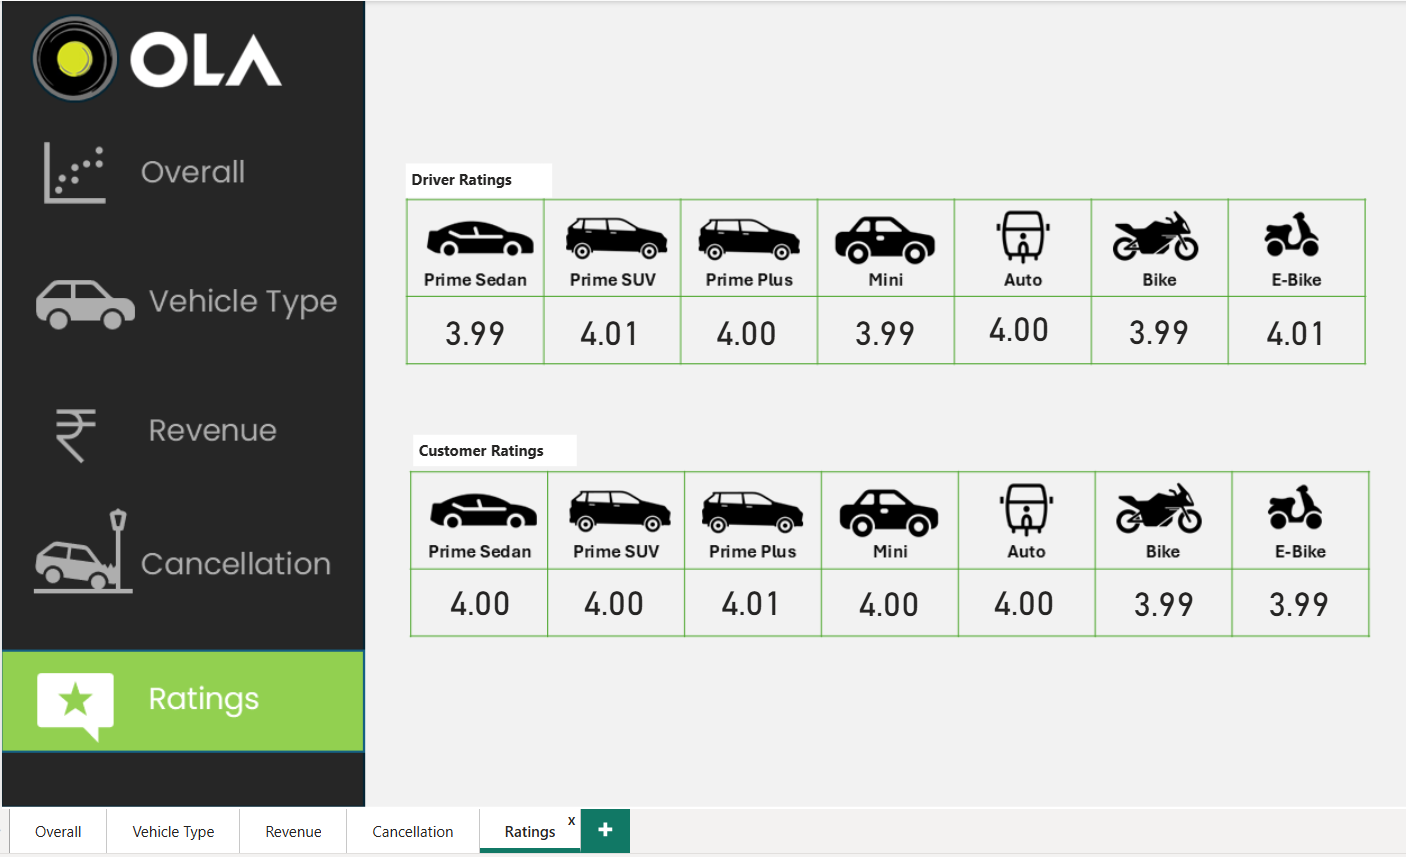

Layout of this report page (visuals, bound fields, positions):
{"tool":"powerbi","page":{"name":"Ratings","canvas":[1280,720],"ordinal":4},"visuals":[{"type":"actionButton","box":[0,106.2,324.5,91.7],"z":0},{"type":"actionButton","box":[1.2,230.4,323.3,89.3],"z":1000},{"type":"actionButton","box":[0,346.2,323.3,89.3],"z":2000},{"type":"actionButton","box":[1.2,469.3,323.3,106.2],"z":3000},{"type":"card","fields":{"Values":["Avg(Bookings.Driver_Ratings)"]},"box":[361.3,266,119.4,55.9],"z":4000},{"type":"card","fields":{"Values":["Avg(Bookings.Driver_Ratings)"]},"box":[482.2,266,119.4,55.9],"z":5000},{"type":"card","fields":{"Values":["Avg(Bookings.Driver_Ratings)"]},"box":[603.1,266,119.4,55.9],"z":6000},{"type":"card","fields":{"Values":["Avg(Bookings.Driver_Ratings)"]},"box":[727.1,266,119.4,55.9],"z":7000},{"type":"card","fields":{"Values":["Avg(Bookings.Driver_Ratings)"]},"box":[846.5,263,119.4,55.9],"z":8000},{"type":"card","fields":{"Values":["Avg(Bookings.Driver_Ratings)"]},"box":[970.4,264.5,119.4,55.9],"z":9000},{"type":"card","fields":{"Values":["Avg(Bookings.Driver_Ratings)"]},"box":[1092.9,266,119.4,55.9],"z":10000},{"type":"card","fields":{"Values":["Avg(Bookings.Customer_Rating)"]},"box":[365.8,506.4,119.4,55.9],"z":11000},{"type":"card","fields":{"Values":["Avg(Bookings.Customer_Rating)"]},"box":[485.2,506.4,119.4,55.9],"z":12000},{"type":"card","fields":{"Values":["Avg(Bookings.Customer_Rating)"]},"box":[607.7,506.4,119.4,55.9],"z":13000},{"type":"card","fields":{"Values":["Avg(Bookings.Customer_Rating)"]},"box":[730.1,507.9,119.4,55.9],"z":14000},{"type":"card","fields":{"Values":["Avg(Bookings.Customer_Rating)"]},"box":[851,506.4,119.4,55.9],"z":15000},{"type":"card","fields":{"Values":["Avg(Bookings.Customer_Rating)"]},"box":[975,507.9,119.4,55.9],"z":16000},{"type":"card","fields":{"Values":["Avg(Bookings.Customer_Rating)"]},"box":[1095.9,507.9,119.4,55.9],"z":17000},{"type":"textbox","box":[366.8,386.1,146,27.7],"z":18000},{"type":"textbox","box":[359.5,144.8,130.3,30.2],"z":19000}]}

Visuals, with their boxes on the page's 1280x720 design canvas (x1, y1, x2, y2). These are canvas units, not pixel positions in the 1406x857 screenshot, which may show the page scaled, cropped or inside an application window:
actionButton: (x1=0, y1=106, x2=324, y2=198)
actionButton: (x1=1, y1=230, x2=324, y2=320)
actionButton: (x1=0, y1=346, x2=323, y2=436)
actionButton: (x1=1, y1=469, x2=324, y2=576)
card - Avg(Bookings.Driver_Ratings): (x1=361, y1=266, x2=481, y2=322)
card - Avg(Bookings.Driver_Ratings): (x1=482, y1=266, x2=602, y2=322)
card - Avg(Bookings.Driver_Ratings): (x1=603, y1=266, x2=722, y2=322)
card - Avg(Bookings.Driver_Ratings): (x1=727, y1=266, x2=846, y2=322)
card - Avg(Bookings.Driver_Ratings): (x1=846, y1=263, x2=966, y2=319)
card - Avg(Bookings.Driver_Ratings): (x1=970, y1=264, x2=1090, y2=320)
card - Avg(Bookings.Driver_Ratings): (x1=1093, y1=266, x2=1212, y2=322)
card - Avg(Bookings.Customer_Rating): (x1=366, y1=506, x2=485, y2=562)
card - Avg(Bookings.Customer_Rating): (x1=485, y1=506, x2=605, y2=562)
card - Avg(Bookings.Customer_Rating): (x1=608, y1=506, x2=727, y2=562)
card - Avg(Bookings.Customer_Rating): (x1=730, y1=508, x2=850, y2=564)
card - Avg(Bookings.Customer_Rating): (x1=851, y1=506, x2=970, y2=562)
card - Avg(Bookings.Customer_Rating): (x1=975, y1=508, x2=1094, y2=564)
card - Avg(Bookings.Customer_Rating): (x1=1096, y1=508, x2=1215, y2=564)
textbox: (x1=367, y1=386, x2=513, y2=414)
textbox: (x1=360, y1=145, x2=490, y2=175)
